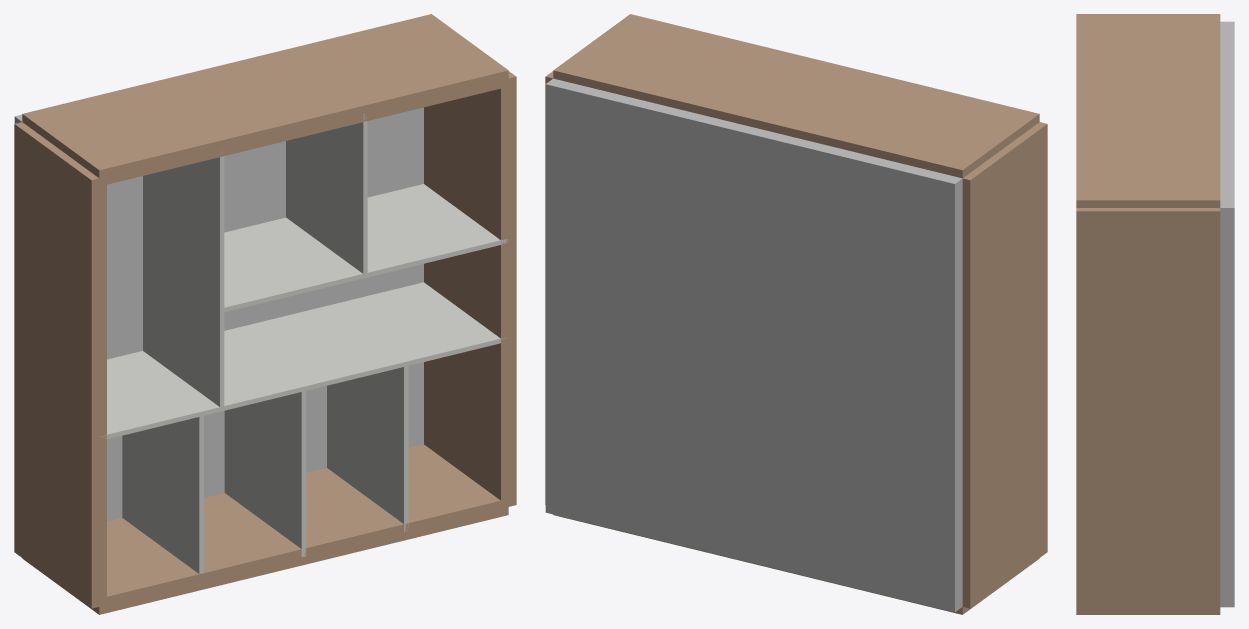
3 renders of one model, left to right at view 1: azimuth 30°, elevation 25°; view 2: azimuth 150°, elevation 25°; view 3: azimuth 270°, elevation 25°, orthographic. The views are drawn at different scales.
Visible parts, largest first — view 1: wall_3, wall_2, wall_1, floor_slab, wall_0, wall_5, wall_9, wall_6, wall_8, wall_12, wall_13, wall_11 (+4 smaller); view 2: floor_slab, wall_3, wall_2, wall_0; view 3: wall_1, wall_2, floor_slab, wall_0.
Part boxes in pixels (box(x1,y1,x2,y2)): wall_3: box(14, 122, 106, 608); wall_2: box(22, 14, 508, 186); wall_1: box(424, 71, 516, 508); floor_slab: box(14, 107, 423, 521); wall_0: box(22, 444, 508, 614); wall_5: box(143, 152, 224, 409); wall_9: box(224, 390, 306, 556); wall_6: box(327, 363, 408, 532); wall_8: box(122, 413, 203, 574); wall_12: box(286, 113, 367, 275); wall_13: box(224, 217, 365, 312); wall_11: box(227, 305, 406, 391); floor_slab: box(545, 78, 962, 612); wall_3: box(962, 122, 1047, 608); wall_2: box(553, 14, 1039, 178); wall_0: box(553, 514, 1039, 614); wall_1: box(1076, 208, 1220, 610); wall_2: box(1076, 14, 1220, 207); floor_slab: box(1220, 21, 1234, 607); wall_0: box(1076, 611, 1220, 614).
Bounding box in the file's own units: 9.55 × 9.55 × 3.3.
